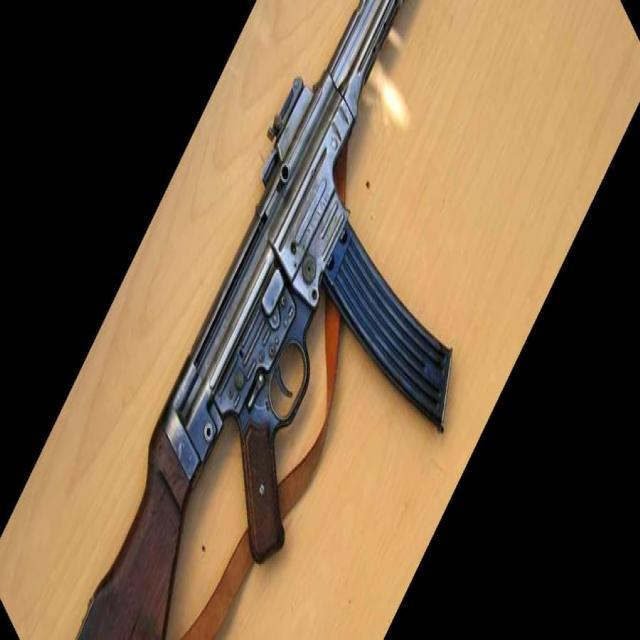weapon: (75, 0, 454, 640)
